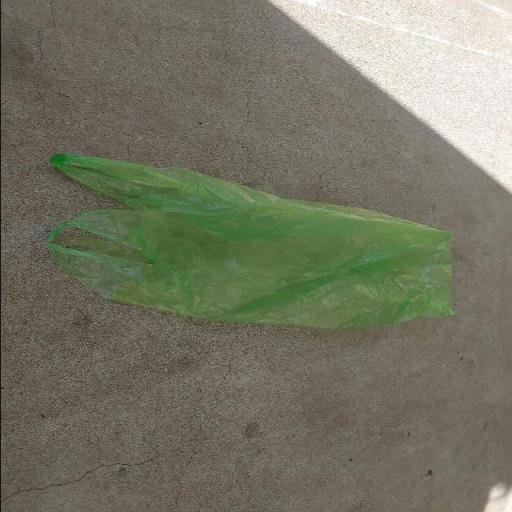plastic-bag: (42, 150, 458, 332)
